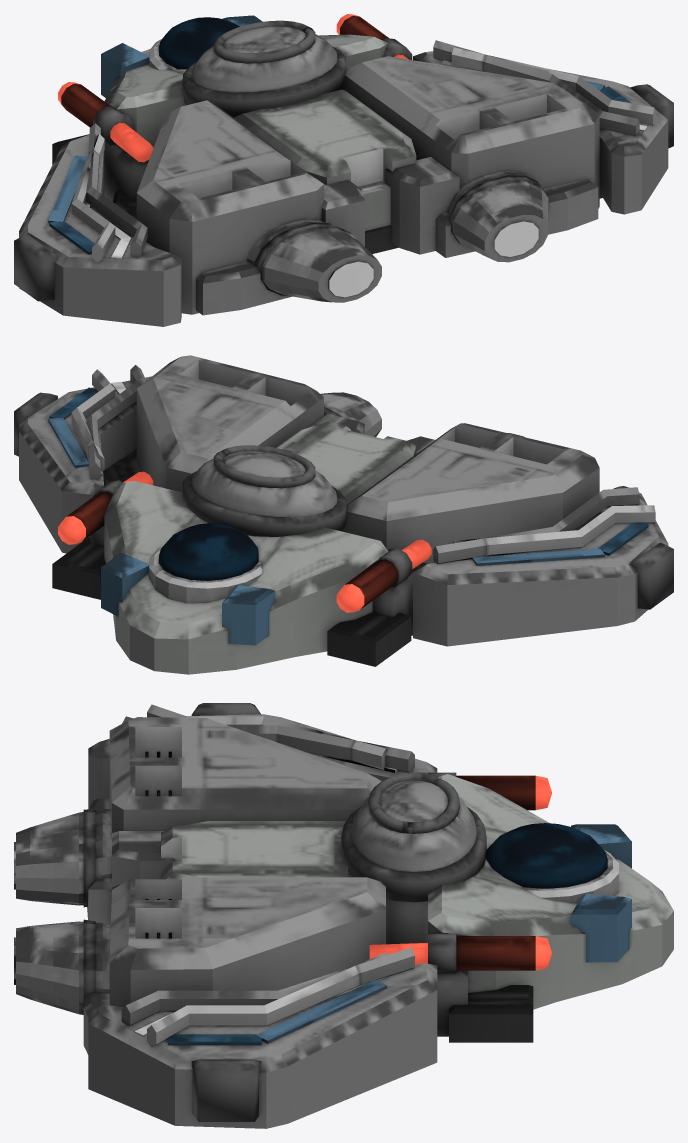
Rendered from ship-nort-ship.glb.
The picture shows the model from 3 angles, top to bottom: view 1: azimuth 30°, elevation 25°; view 2: azimuth 150°, elevation 25°; view 3: azimuth 270°, elevation 25°; orthographic projection. The views are drawn at different scales.
Visible parts, largest first — view 1: ship-nort-ship; view 2: ship-nort-ship; view 3: ship-nort-ship.
Boxes of the visible parts, bbox=[...] form: ship-nort-ship: bbox=[14, 14, 673, 326]; ship-nort-ship: bbox=[14, 355, 673, 674]; ship-nort-ship: bbox=[14, 703, 673, 1128].
Bounding box in the file's own units: 3.08 × 0.65 × 2.35.
Materials: 11 (11 with a texture image).
